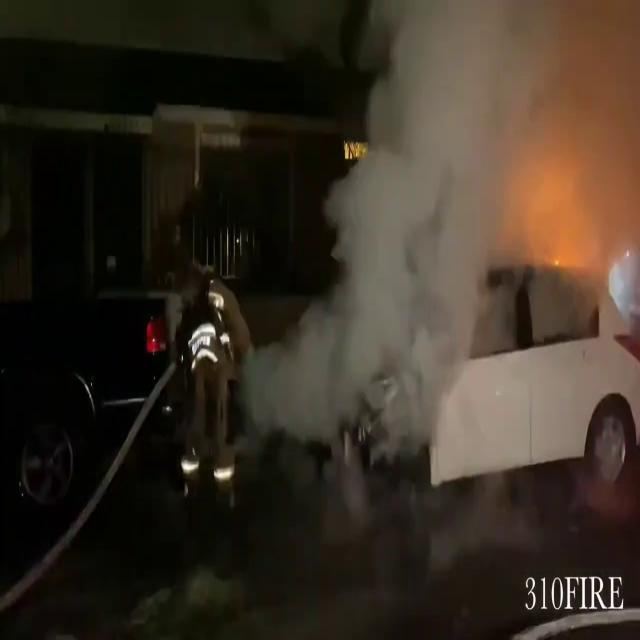Smoke: (251, 0, 640, 468)
